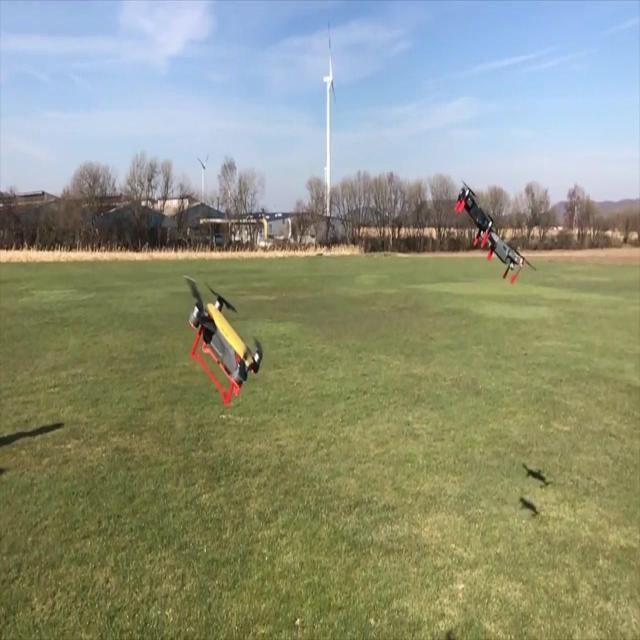UAV: (183, 275, 263, 405), (480, 228, 538, 284), (454, 180, 494, 249)
